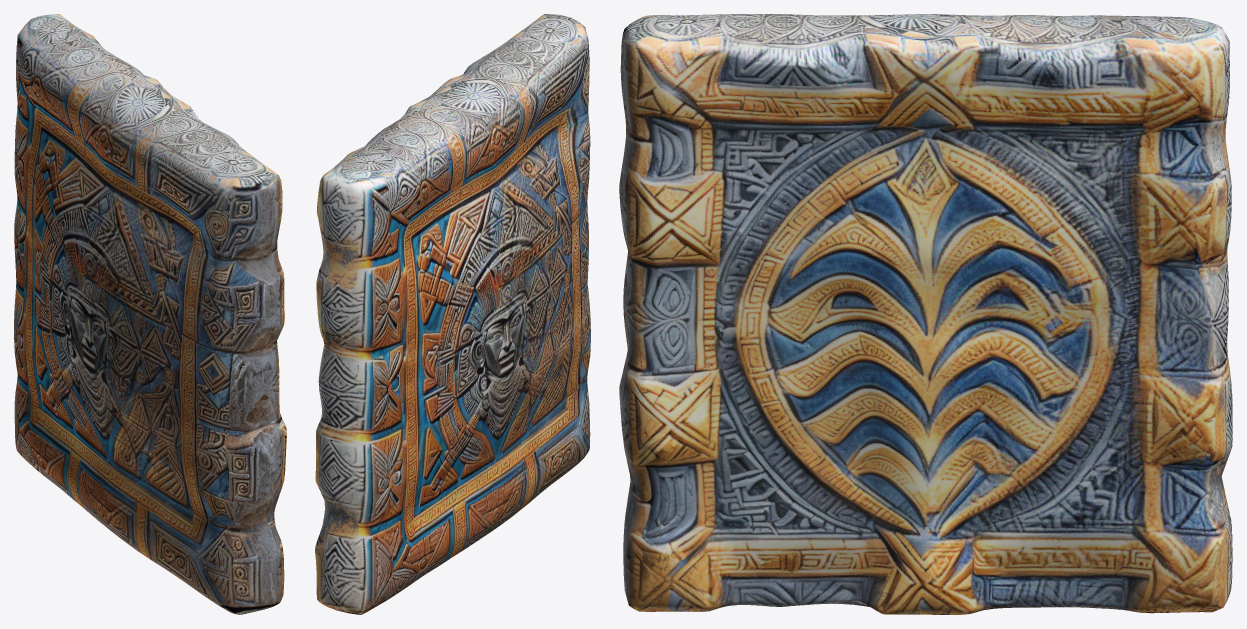
Rendered from 1_Aztec_floor_tile,_high_resolution,_very_ornate,_stylized_bu_04.fbx.
The picture shows the model from 3 angles, left to right: view 1: azimuth 30°, elevation 25°; view 2: azimuth 150°, elevation 25°; view 3: azimuth 270°, elevation 25°; orthographic projection. The views are drawn at different scales.
Visible parts, largest first — view 1: Mesh_0; view 2: Mesh_0; view 3: Mesh_0.
Part boxes in pixels (x1,y1,x2,y2): Mesh_0: (14, 14, 286, 614); Mesh_0: (315, 14, 590, 614); Mesh_0: (619, 14, 1232, 614).
Bounding box in the file's own units: 25.86 × 120 × 114.
1 material, 1 textured.
